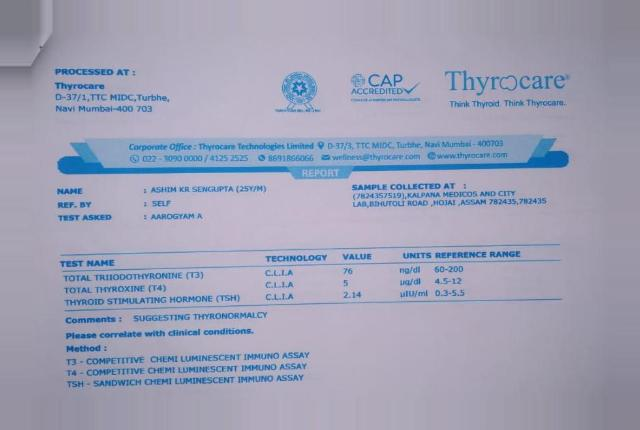Clinical_Conditions: (61, 356, 310, 394)
Name: (149, 183, 269, 194)
Ref_By: (153, 199, 174, 207)
Reference_Range: (433, 262, 469, 300)
Technology: (261, 269, 303, 305)
Test_Asked: (150, 211, 205, 222)
Test_Name: (60, 269, 246, 308)
Unit: (395, 263, 430, 301)
Value: (338, 265, 369, 304)
